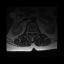CCS_normal: (31, 30, 32, 36)
LFS_stenosis: (34, 30, 35, 34)
LLS_normal: (32, 30, 34, 35)
RFS_normal: (28, 29, 29, 34)
RLS_normal: (29, 30, 31, 35)
